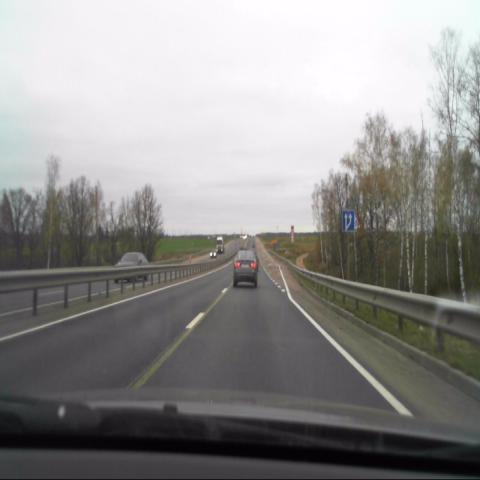5_15_3: (341, 208, 354, 230)
